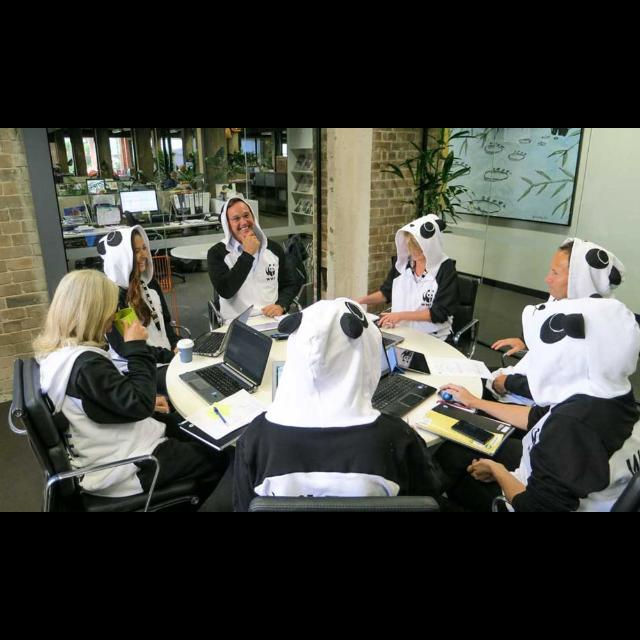head: (293, 300, 373, 406), (54, 269, 120, 335), (568, 309, 632, 376), (544, 242, 608, 300), (108, 227, 148, 275), (222, 198, 256, 240), (404, 230, 432, 262)
person: (31, 268, 290, 504), (95, 223, 251, 431), (323, 212, 461, 406), (205, 195, 309, 398)
